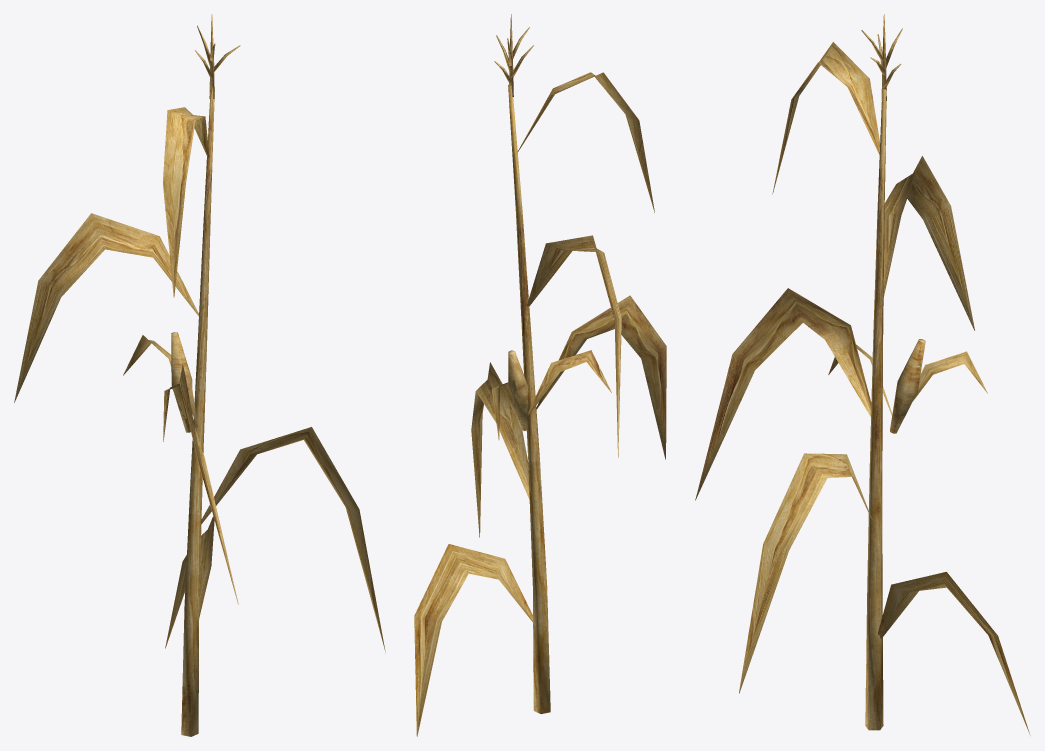
Rendered from Corn_B_Mid.fbx.
The picture shows the model from 3 angles, left to right: view 1: azimuth 30°, elevation 25°; view 2: azimuth 150°, elevation 25°; view 3: azimuth 270°, elevation 25°; orthographic projection. The views are drawn at different scales.
Parts seen in each view (by area): view 1: Corn_B_Mid; view 2: Corn_B_Mid; view 3: Corn_B_Mid.
Part boxes in pixels (x1=…): Corn_B_Mid: x1=14, y1=14, x2=385, y2=736; Corn_B_Mid: x1=414, y1=14, x2=666, y2=736; Corn_B_Mid: x1=695, y1=14, x2=1030, y2=735.
Size of the model in its own units: 3.03 by 8 by 3.35.
1 material, 1 textured.
